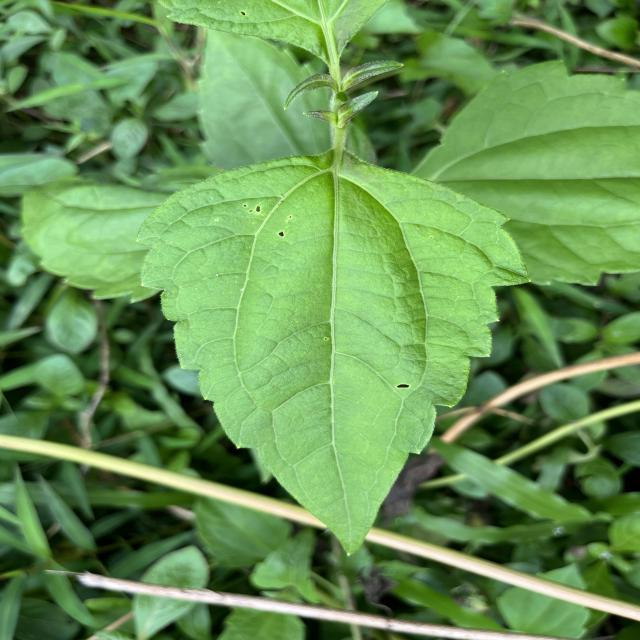Chromolaena odorata: (126, 142, 540, 562)
